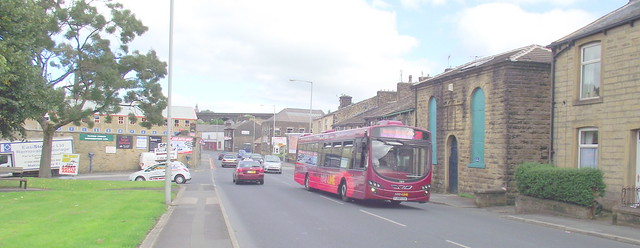bus: (294, 122, 433, 205)
